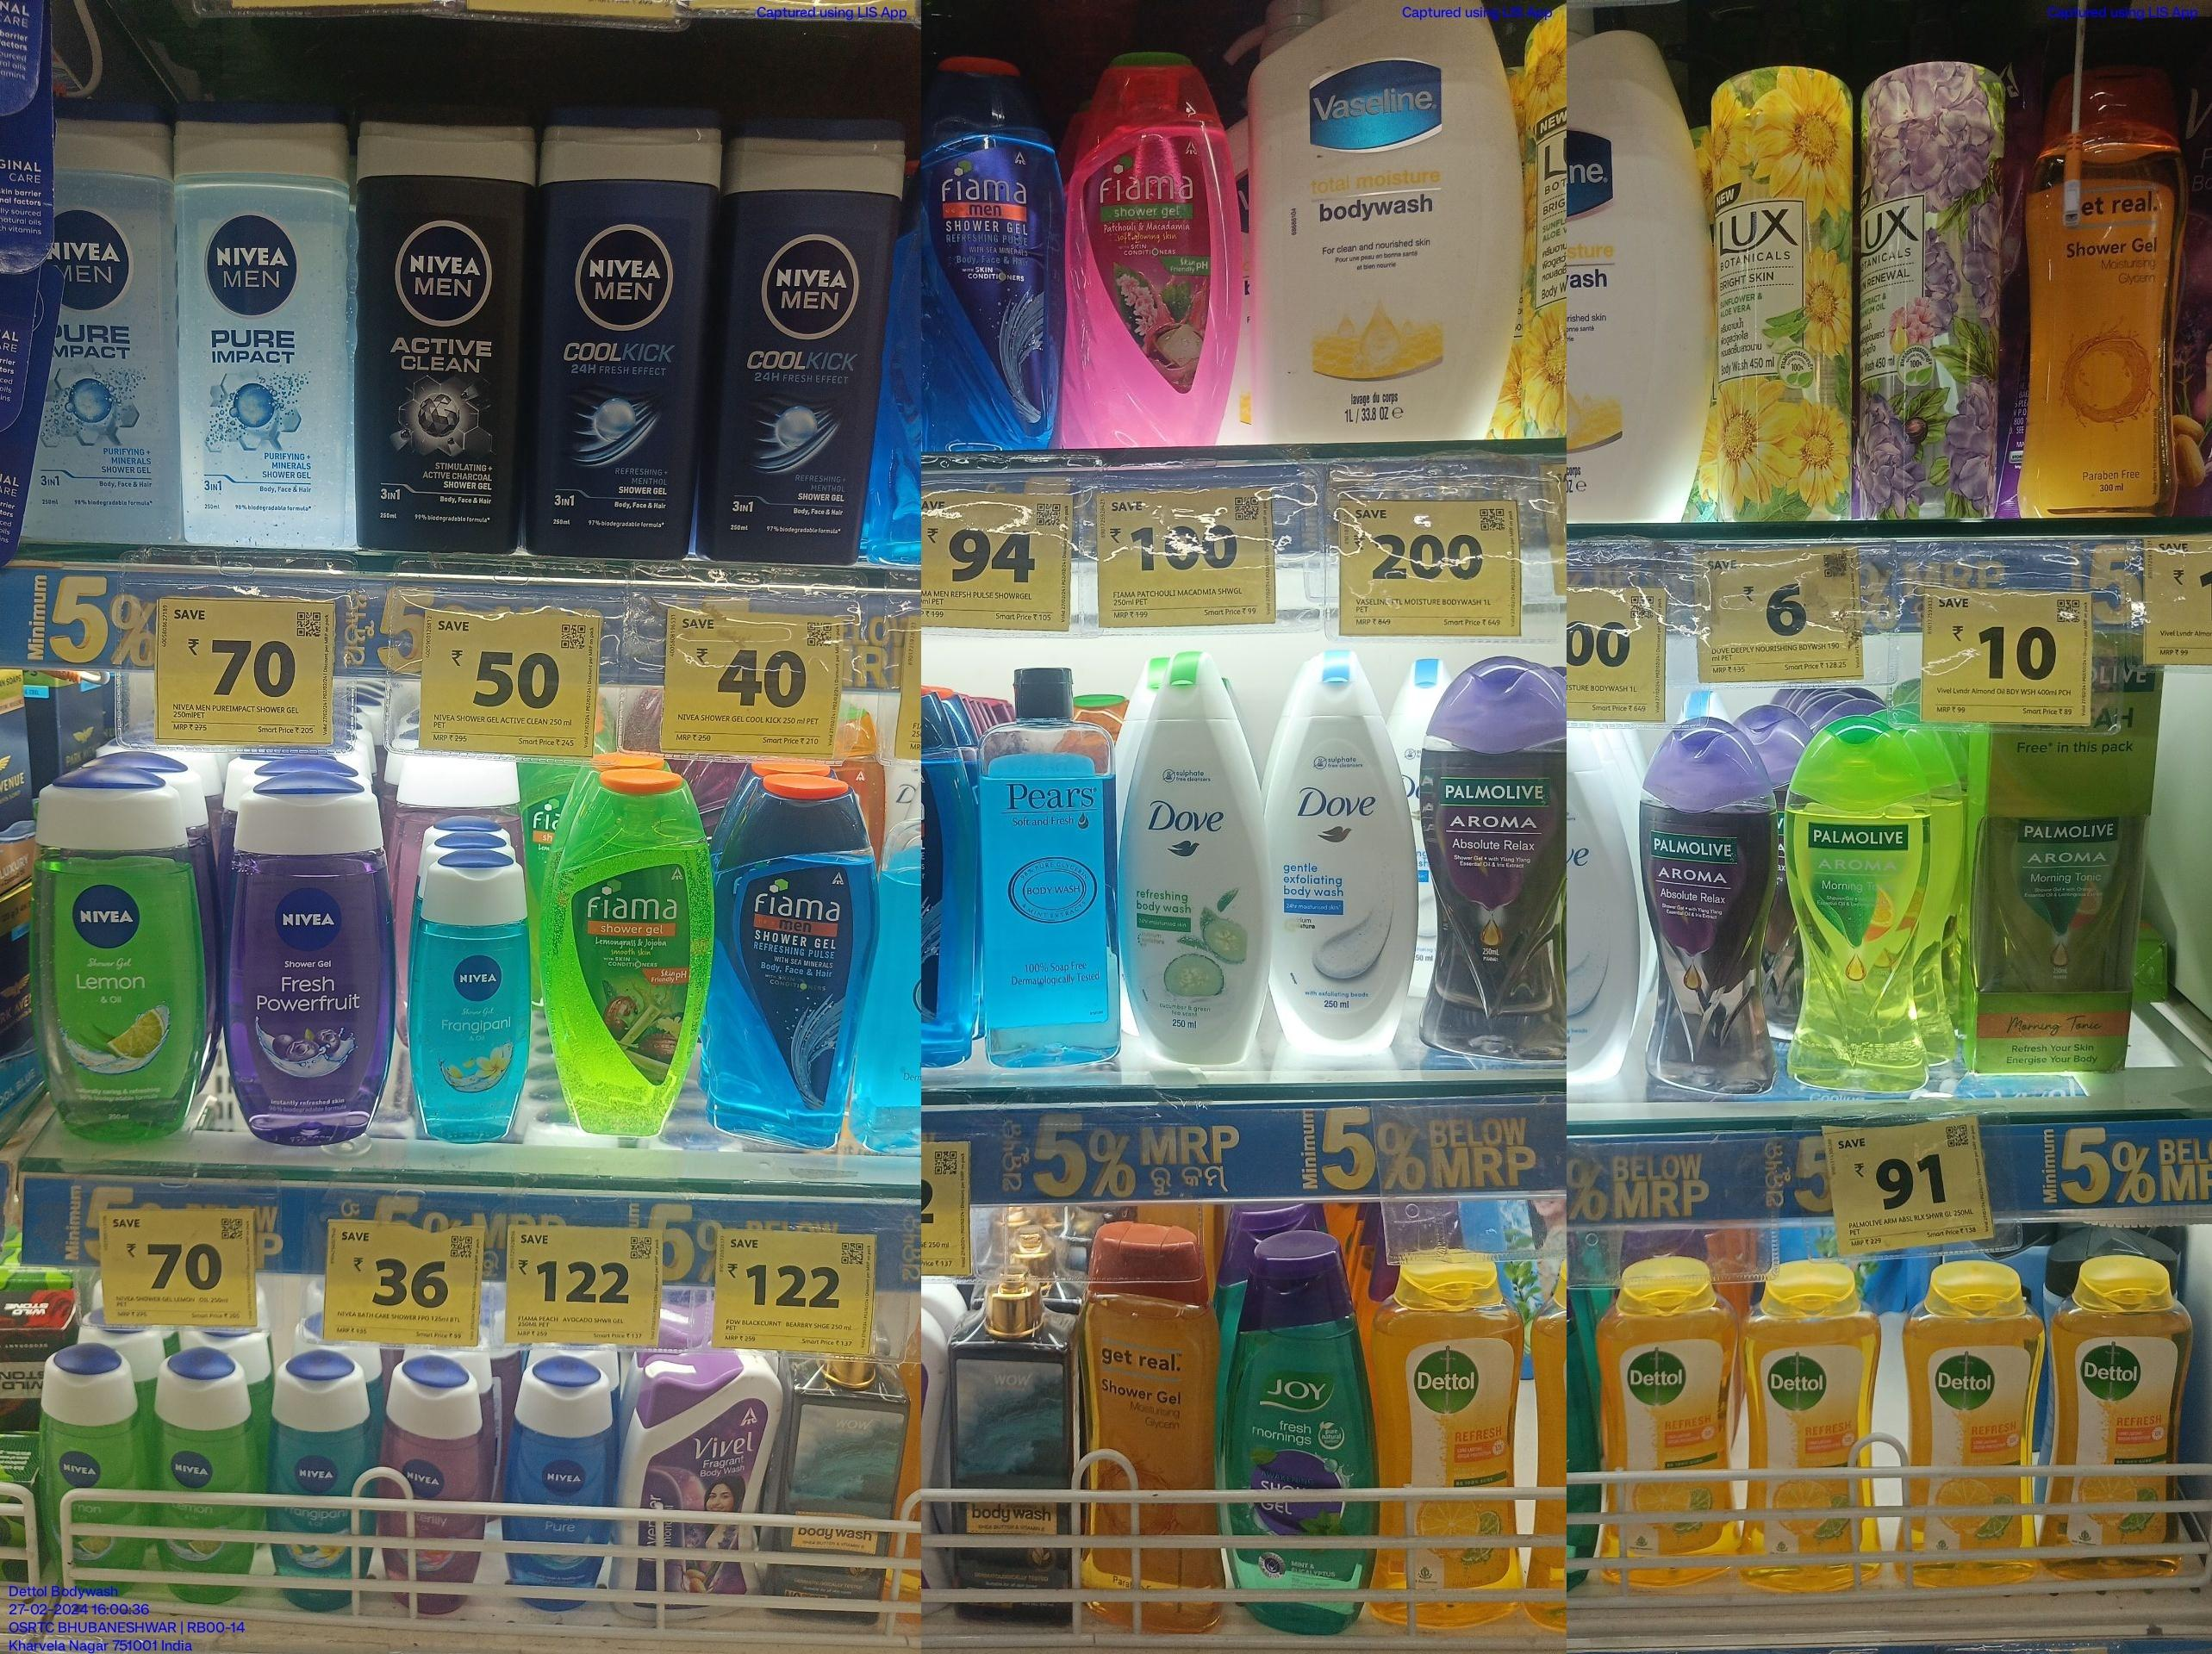Dettol_Bodywash_Refresh: (1390, 1261, 1526, 1635), (1899, 1272, 2047, 1602), (1595, 1260, 1743, 1581), (2057, 1274, 2193, 1604), (1753, 1267, 1875, 1598)
Dove_Gentle_Exfoliating_Body_Wash_250ML: (1272, 660, 1413, 1060)
Dove_Refreshing_Body_Wash_250ML: (1133, 655, 1268, 1075)
Fiama_Shower_Gel_Lemongrass_and_Jojoba_250ML: (554, 768, 699, 1145)
Fiama_Shower_Gel_Patchouli_and_Macadamia_250ML: (1070, 35, 1241, 453)
Get_Real_Shower_Gel_Moisturising_Glycerin_300ML: (1086, 1221, 1222, 1642)
Joy_Shower_Gel_Mint_and_Eucalyptus_250ML: (1229, 1239, 1374, 1640)
Nivea_Shower_Gel_Frangipani_and_Oil_250ML: (412, 863, 527, 1141), (269, 1369, 374, 1614)
Nivea_Shower_Gel_Fresh_Powerfruit_250ML: (222, 782, 381, 1148)
Nivea_Shower_Gel_Lemon_and_Oil_250ML: (31, 777, 203, 1147), (30, 1359, 144, 1598), (151, 1350, 240, 1602)
Nivea_Shower_Gel_Waterlily_and_Oil_250ML: (379, 1366, 476, 1614)
Palmolive_Aroma_Morning_Tonic_Shower_Gel_250ML: (1793, 723, 1936, 1093)
Palmolive_Aroma_Relax_250ML: (1418, 657, 1573, 1056), (1637, 719, 1781, 1102)
Pears_Pure_Glycerin_and_Mint_Extracts_Body_Wash_250ML: (978, 653, 1116, 1070)
